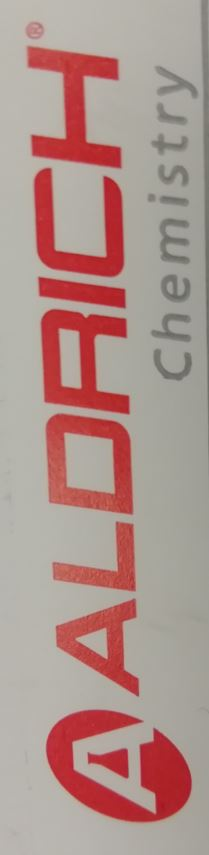SigmaAldrich: (18, 14, 205, 828)
